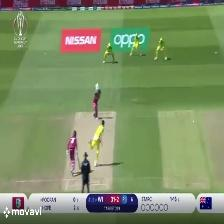ball: (190, 119, 198, 126)
batsman: (89, 81, 105, 120)
